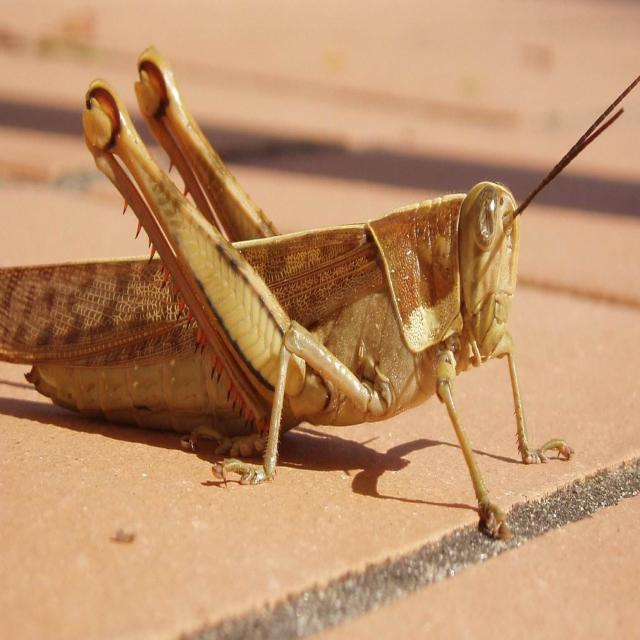ZhaMeng: (17, 46, 586, 550)
